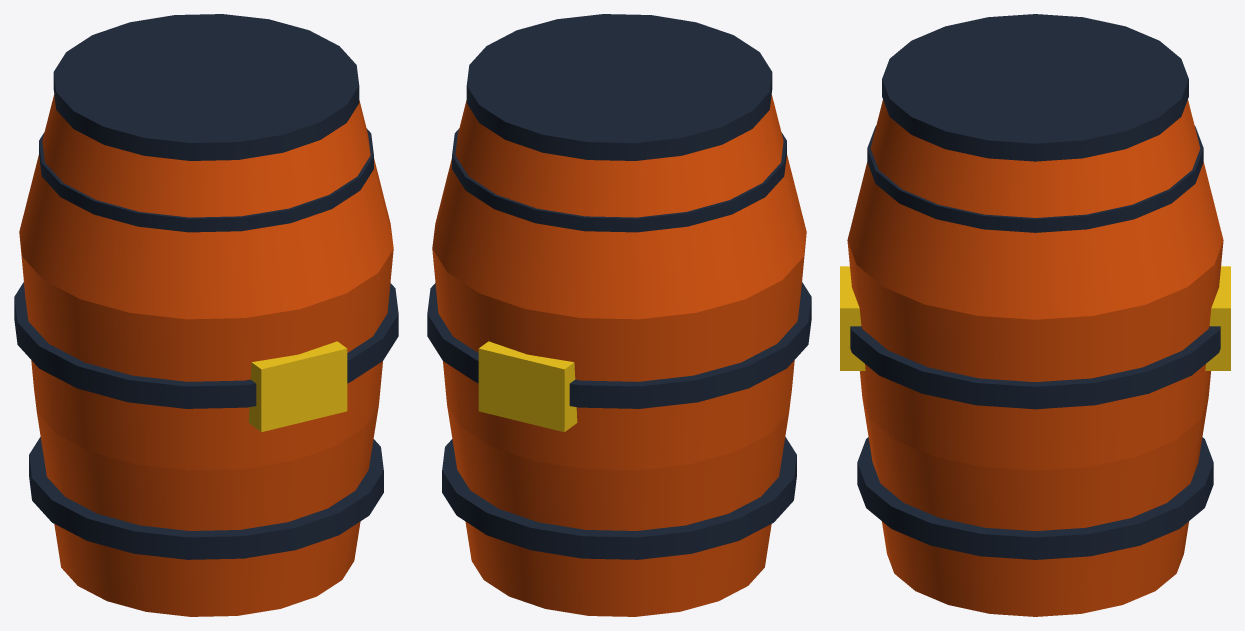
The model's file is obstacle_barrel.glb.
The picture shows the model from 3 angles, left to right: view 1: azimuth 30°, elevation 25°; view 2: azimuth 150°, elevation 25°; view 3: azimuth 270°, elevation 25°; orthographic projection.
Visible parts, largest first — view 1: obstacle_barrel; view 2: obstacle_barrel; view 3: obstacle_barrel.
Boxes of the visible parts, <box> form: obstacle_barrel: <box>14,14,398,616</box>; obstacle_barrel: <box>427,14,811,616</box>; obstacle_barrel: <box>840,14,1230,616</box>.
Size of the model in its own units: 0.78 by 1.06 by 0.79.
